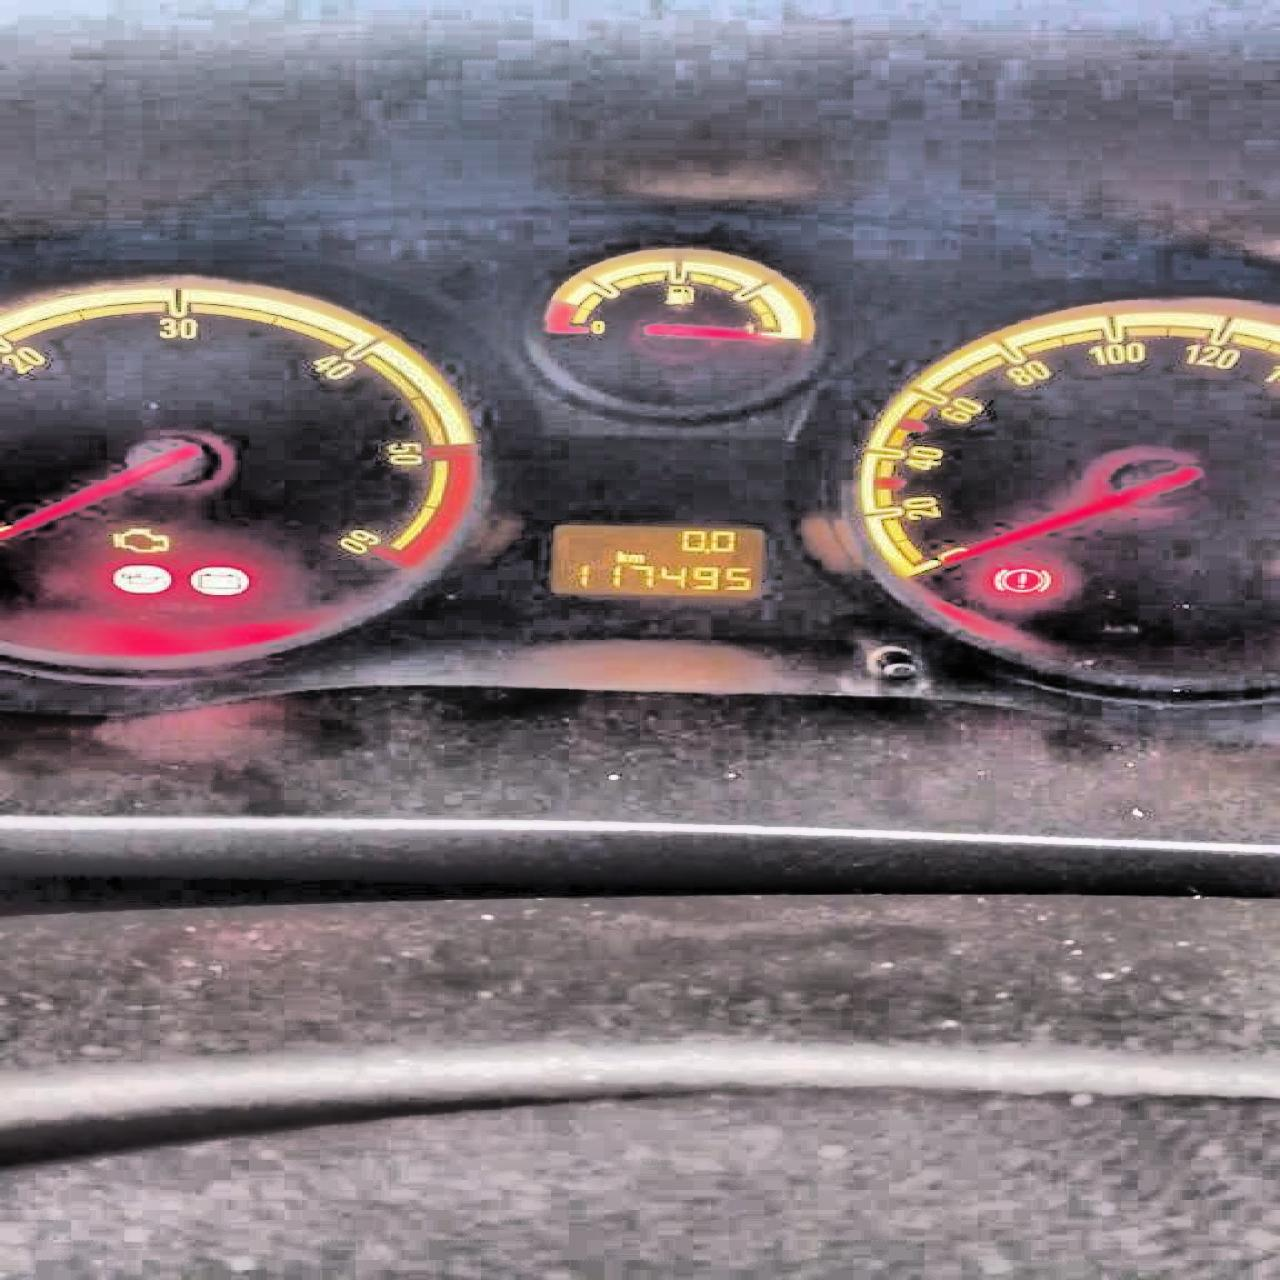-: (702, 546, 709, 553)
0: (709, 530, 734, 551), (680, 530, 704, 550)
1: (610, 565, 620, 587), (578, 563, 586, 586)
4: (658, 565, 685, 587)
5: (722, 567, 749, 591)
7: (627, 565, 653, 586)
9: (689, 565, 719, 588)
X: (626, 553, 645, 563), (613, 550, 627, 561)
odometer: (543, 520, 767, 600)
